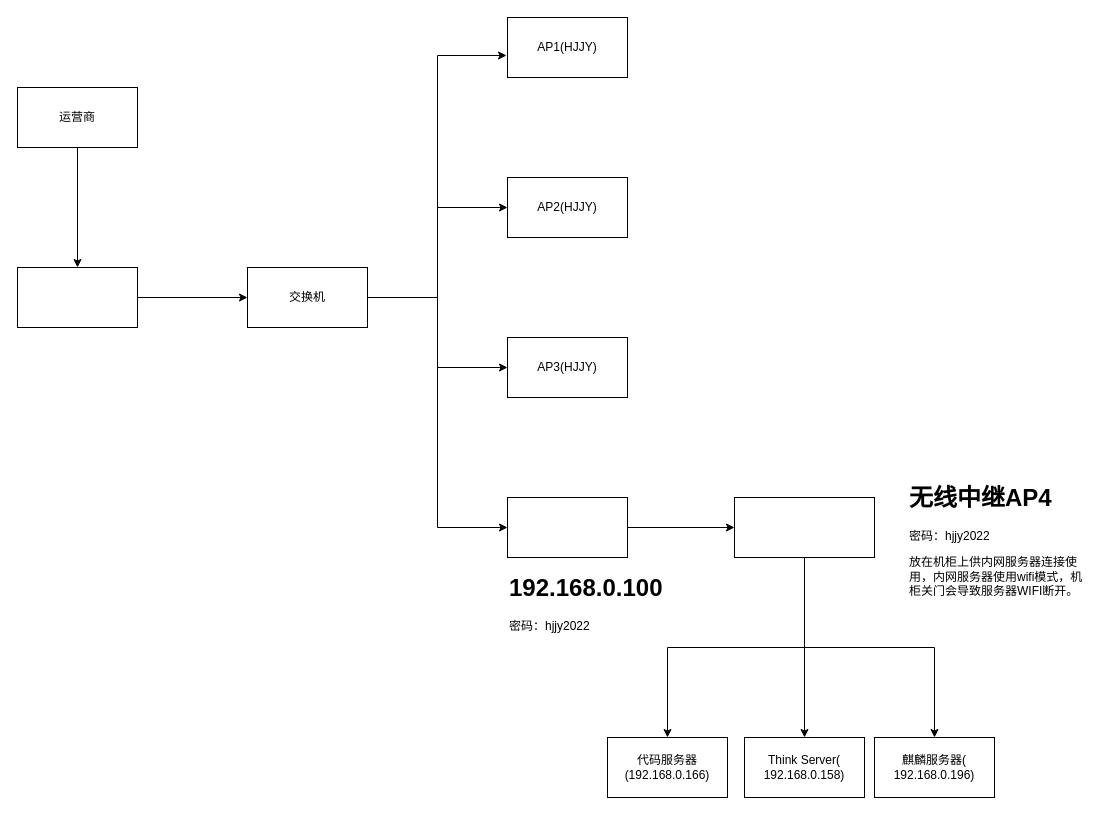
The diagram is 1105 pixels wide and 815 high, and some of its shapes have lost their labels. The centre of each missing label's shape, as x and y in pixels:
"AP4(HJJY_DEV)" goes at point (567, 527).
"主路由(HJJY)" goes at point (77, 297).
"路由器(HJJY_Server)" goes at point (804, 527).
